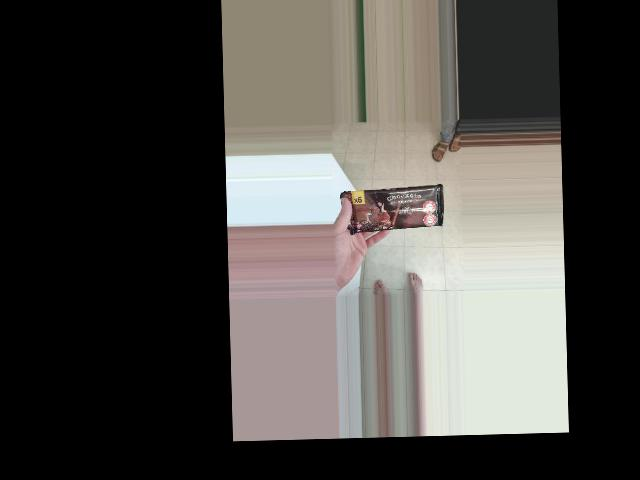chocolate: (389, 134, 450, 246)
